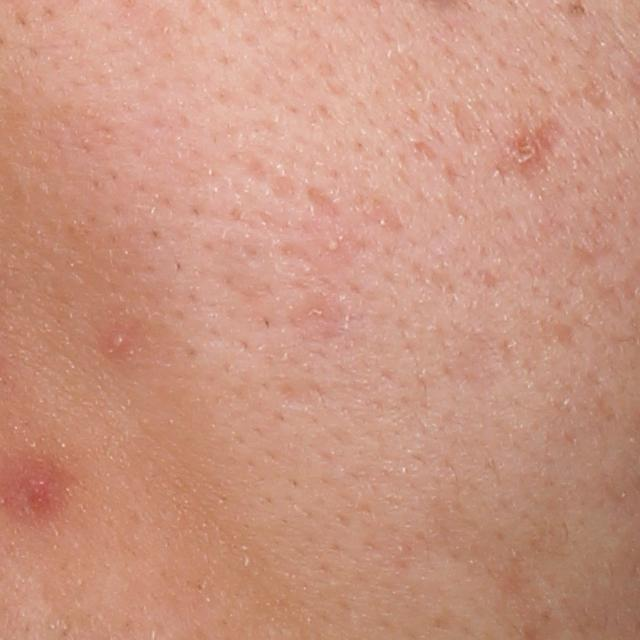atrophic_scar: (448, 97, 488, 151), (580, 72, 613, 115), (306, 186, 344, 221), (550, 324, 585, 360)
comedo: (320, 234, 342, 255)
papule: (505, 132, 540, 171)
